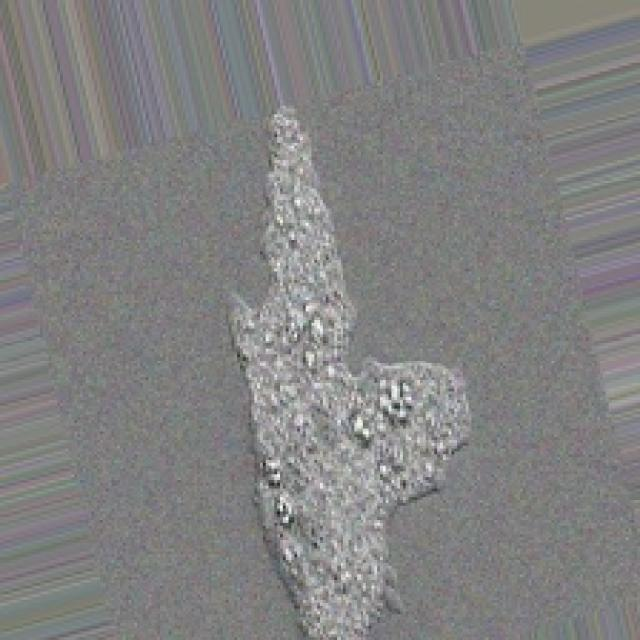Amoeba: (220, 100, 471, 637)
